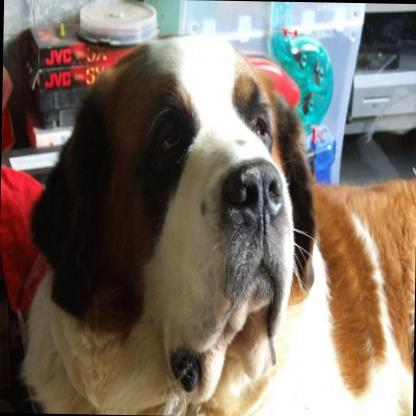Saint_Bernard: (17, 29, 416, 416)
